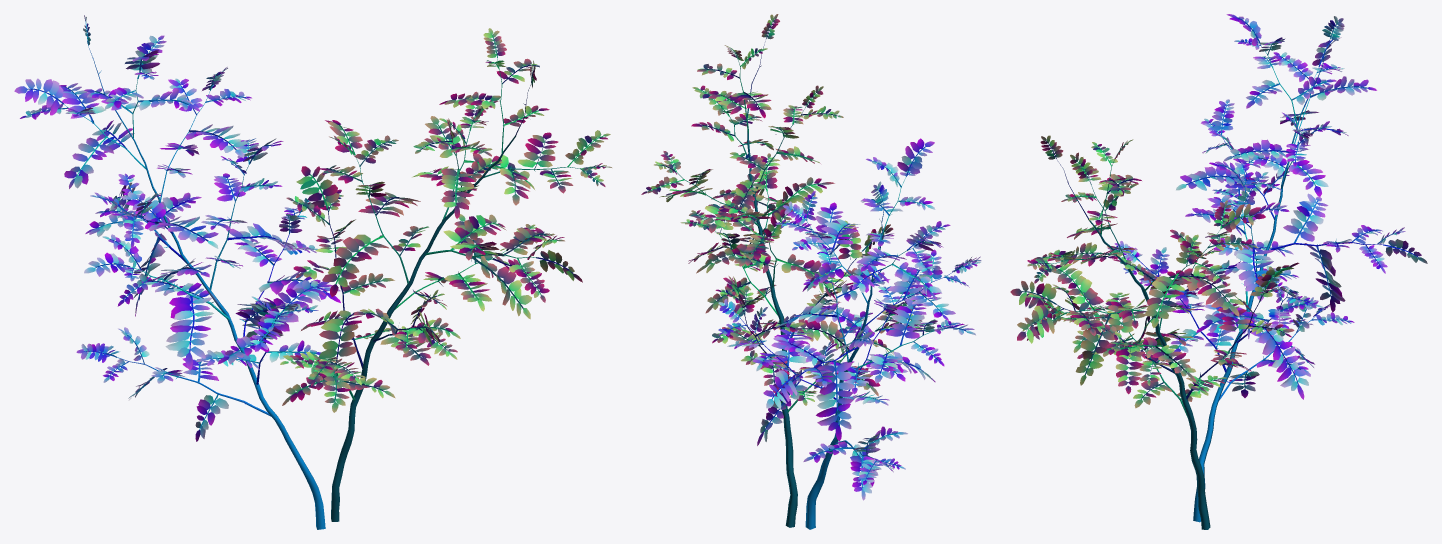
Rendered from Black_Locust_wdvhberja_Mid_wdvhberja_VarB_LOD0.fbx.
3 renders of one model, left to right at view 1: azimuth 30°, elevation 25°; view 2: azimuth 150°, elevation 25°; view 3: azimuth 270°, elevation 25°, orthographic. The views are drawn at different scales.
Visible parts, largest first — view 1: _sypj_VarB_LOD1; view 2: _sypj_VarB_LOD1; view 3: _sypj_VarB_LOD1.
Part boxes in pixels (bbox=[...]): _sypj_VarB_LOD1: bbox=[14, 15, 611, 529]; _sypj_VarB_LOD1: bbox=[641, 14, 981, 529]; _sypj_VarB_LOD1: bbox=[1010, 14, 1427, 529].
Size of the model in its own units: 110 by 119 by 102.
